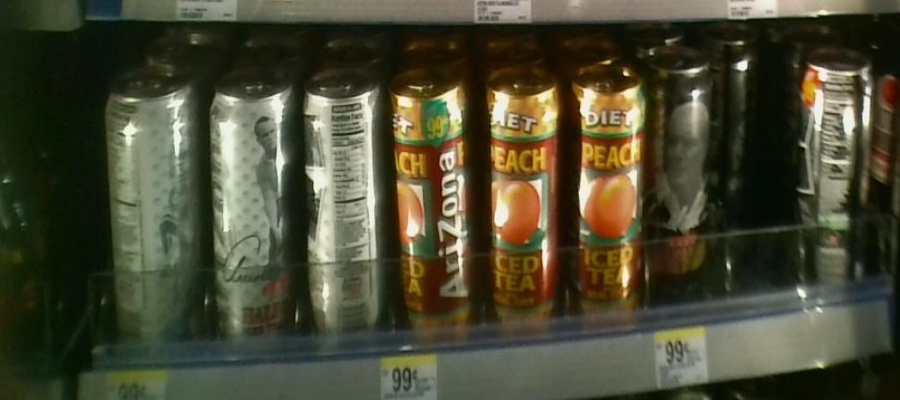bottle: (97, 74, 202, 355), (387, 66, 483, 349), (206, 69, 299, 358), (482, 64, 569, 345), (304, 71, 381, 359), (569, 64, 643, 332), (642, 52, 714, 317), (715, 39, 784, 308), (799, 51, 869, 311)
